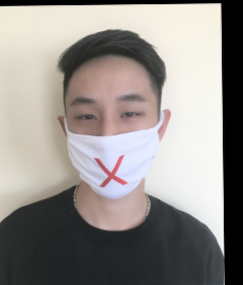with_mask: (64, 91, 159, 200)
